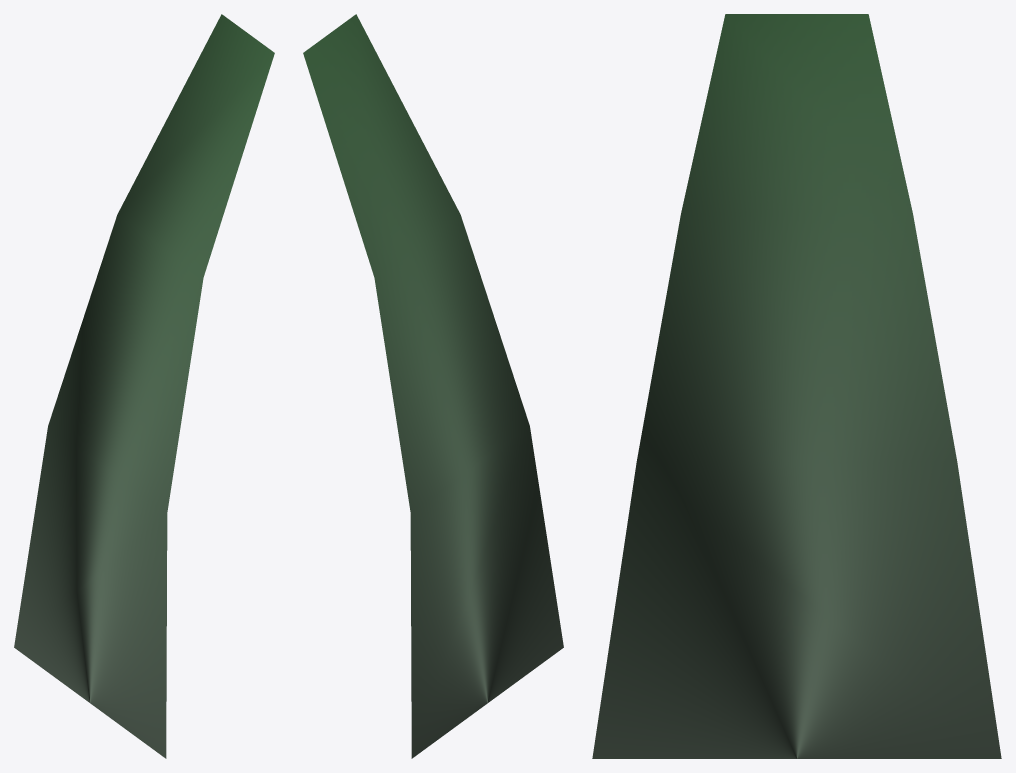
Rendered from Blade_Lawn_Curved.glb.
The picture shows the model from 3 angles, left to right: view 1: azimuth 30°, elevation 25°; view 2: azimuth 150°, elevation 25°; view 3: azimuth 270°, elevation 25°; orthographic projection. The views are drawn at different scales.
Visible parts, largest first — view 1: Blade_Lawn_Curved; view 2: Blade_Lawn_Curved; view 3: Blade_Lawn_Curved.
Part boxes in pixels (left/top/right/bottom): Blade_Lawn_Curved: left=14, top=14, right=274, bottom=758; Blade_Lawn_Curved: left=303, top=14, right=563, bottom=758; Blade_Lawn_Curved: left=592, top=14, right=1001, bottom=758.
Size of the model in its own units: 0.015 by 0.0572 by 0.025.
